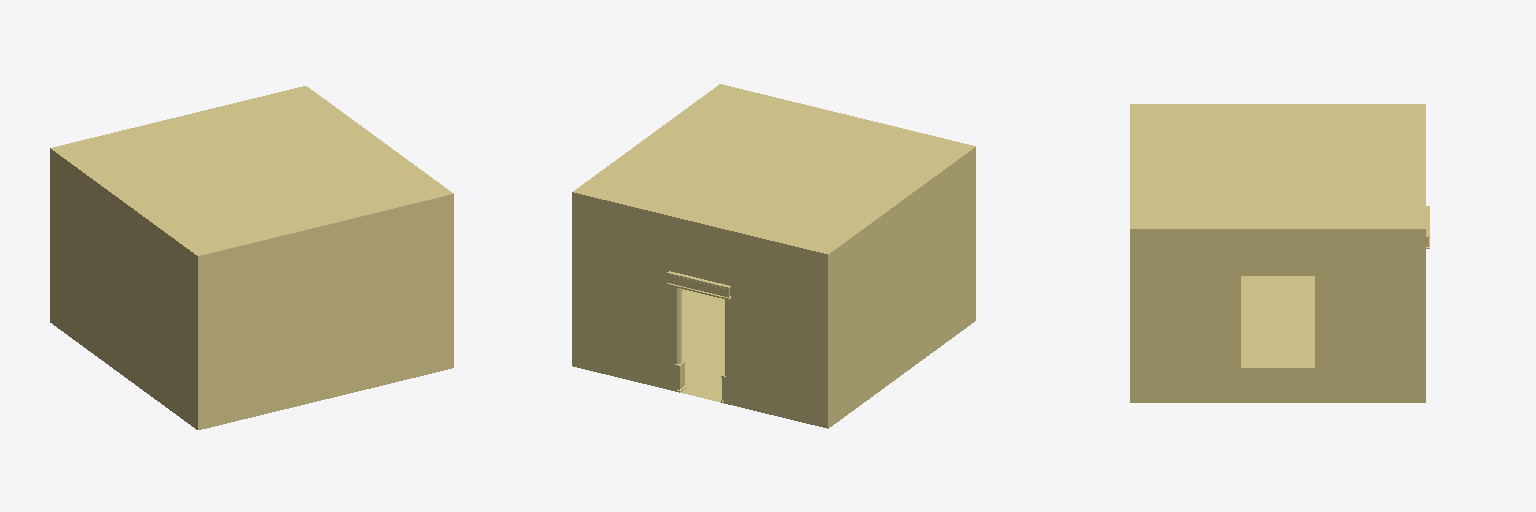
The model's file is room.obj.
3 renders of one model, left to right at view 1: azimuth 30°, elevation 25°; view 2: azimuth 150°, elevation 25°; view 3: azimuth 270°, elevation 25°, orthographic.
Parts seen in each view (by area): view 1: ??????????; view 2: ??????????; view 3: ??????????.
Boxes of the visible parts, x1=… form: ??????????: x1=50, y1=86, x2=453, y2=429; ??????????: x1=572, y1=84, x2=975, y2=428; ??????????: x1=1130, y1=104, x2=1429, y2=402.
Bounding box in the file's own units: 4.16 × 2.6 × 4.06.